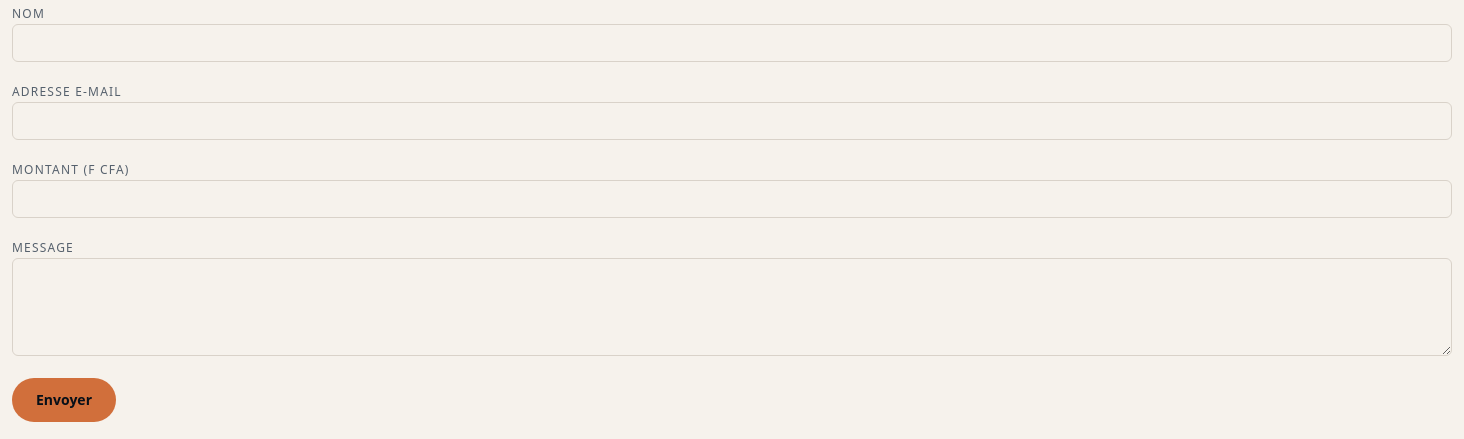
Scenario: FormulaireSoutien › affiche la confirmation et les moyens de paiement après succès
Type "Test" into the field labelled "Nom" at (732, 43), box top-left (12, 24), bottom-right (1452, 62)
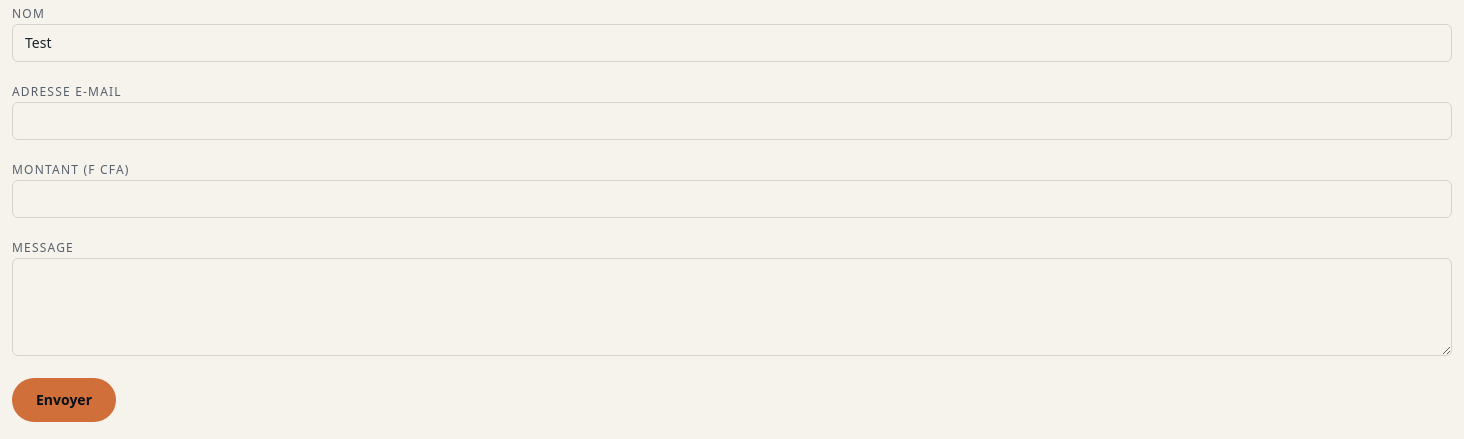
Type "a@b.ci" into the field labelled "Adresse e-mail" at (732, 121), box top-left (12, 102), bottom-right (1452, 140)
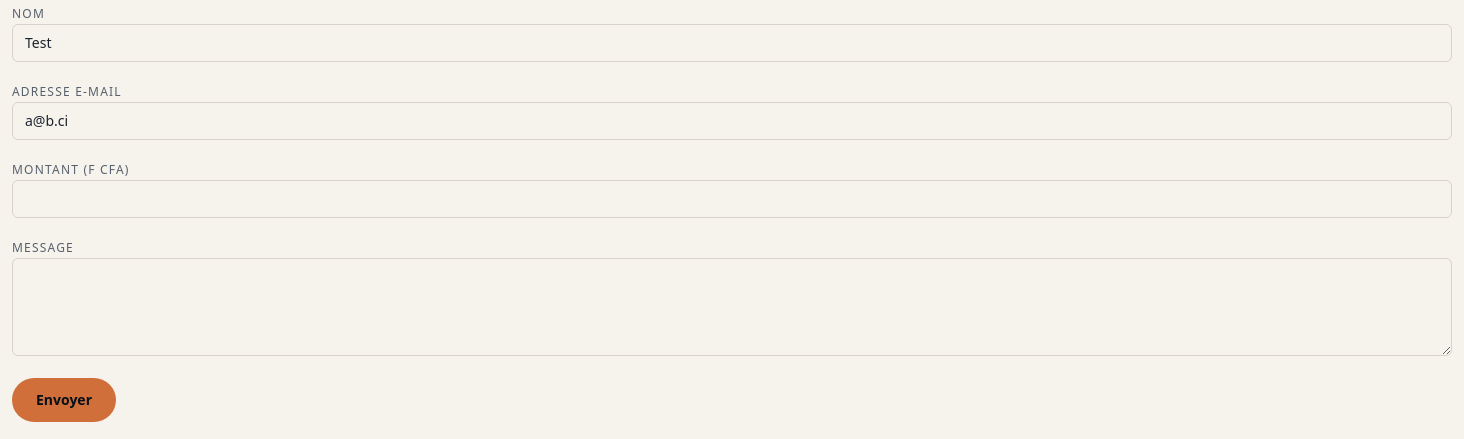
Click the button "Envoyer" at (64, 400), box top-left (12, 378), bottom-right (116, 422)
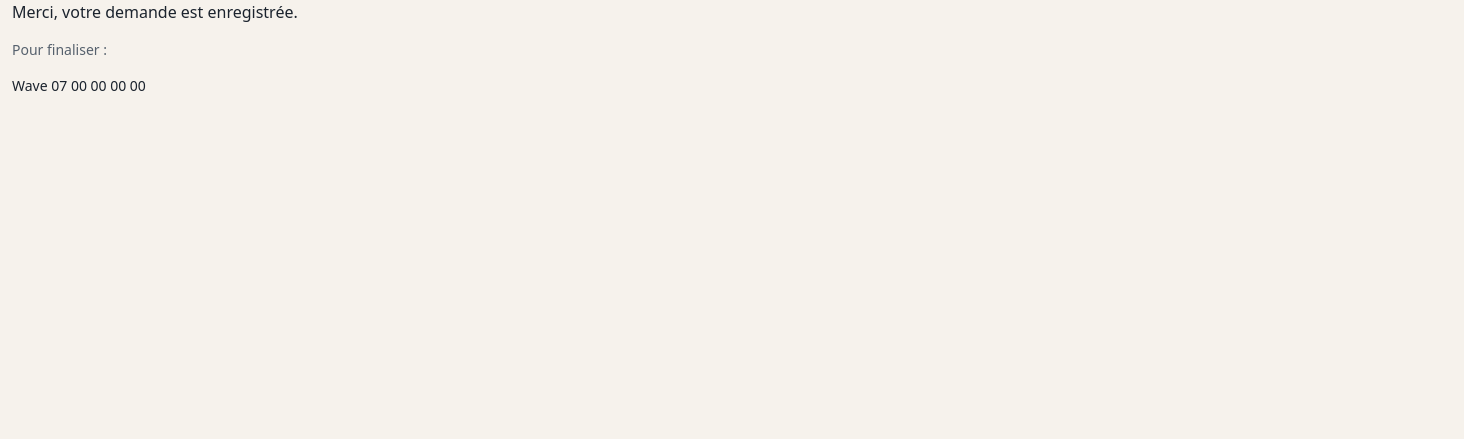
expect the text "Wave 07 00 00 00 00" is shown: met, box top-left (12, 76), bottom-right (146, 95)
